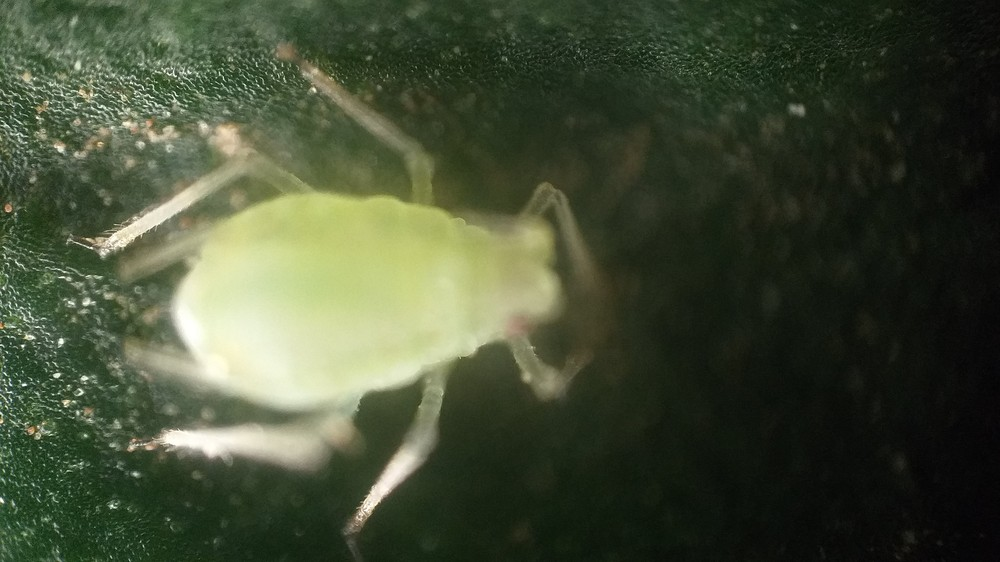Pulgon: (69, 69, 654, 548)
